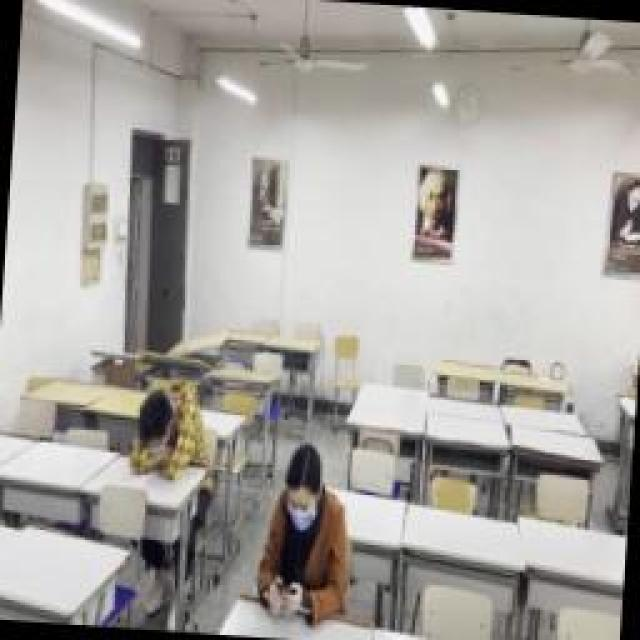phone: (252, 443, 350, 625)
sleep: (130, 378, 218, 480)
